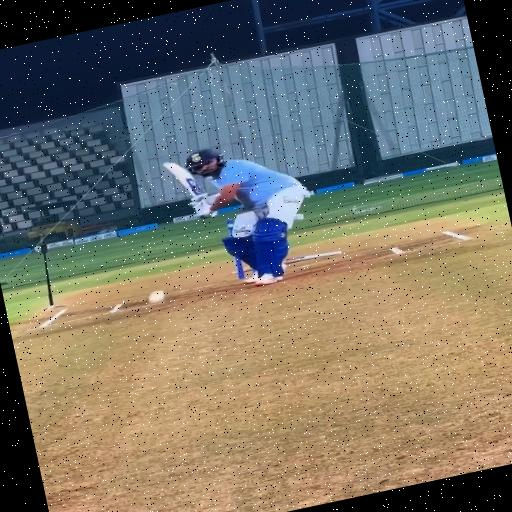Cricket bat: (163, 162, 202, 196)
